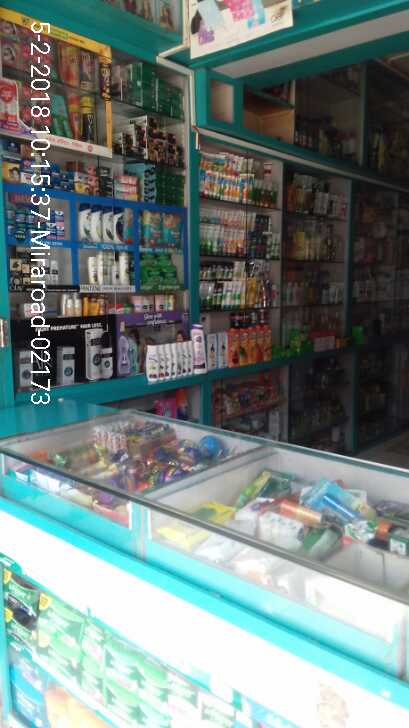beauty: (104, 205, 125, 244), (85, 205, 103, 247), (73, 205, 88, 245), (6, 253, 25, 283), (119, 249, 133, 286), (86, 252, 99, 287)
pharmacy: (136, 251, 179, 288), (5, 205, 37, 241), (141, 208, 162, 246), (44, 205, 65, 239), (165, 215, 186, 244)
